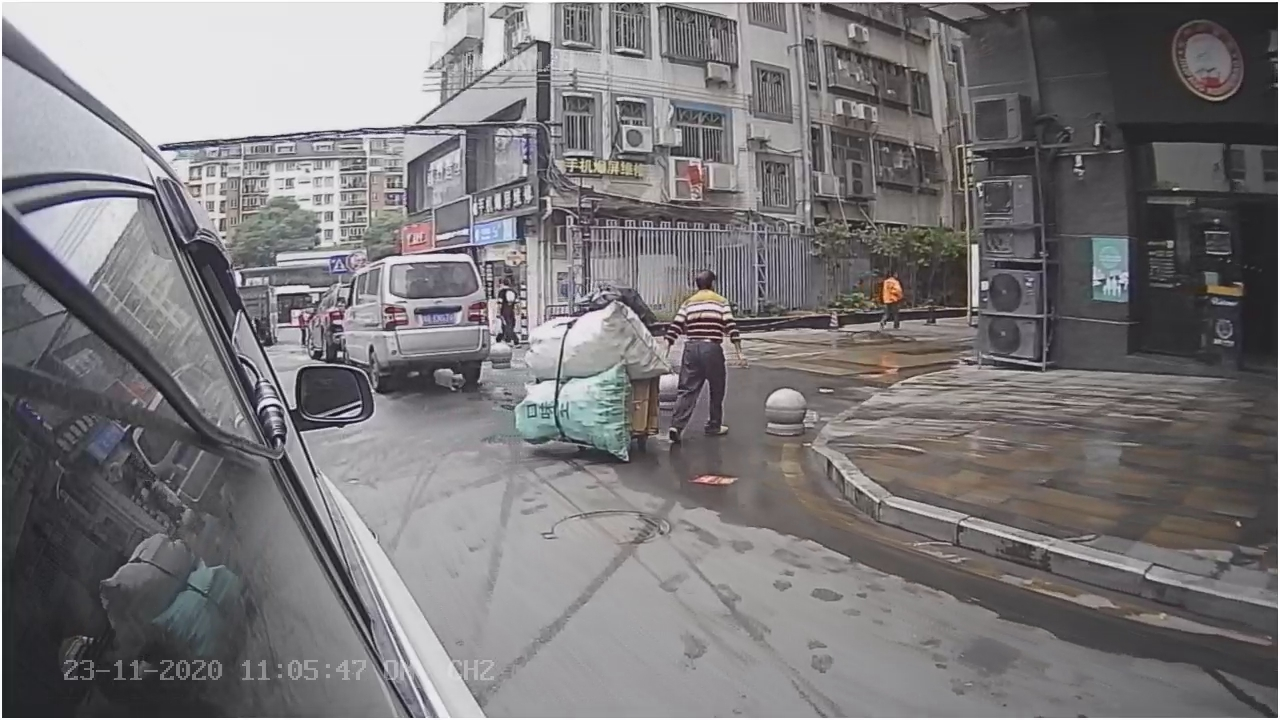person: (667, 266, 750, 448)
